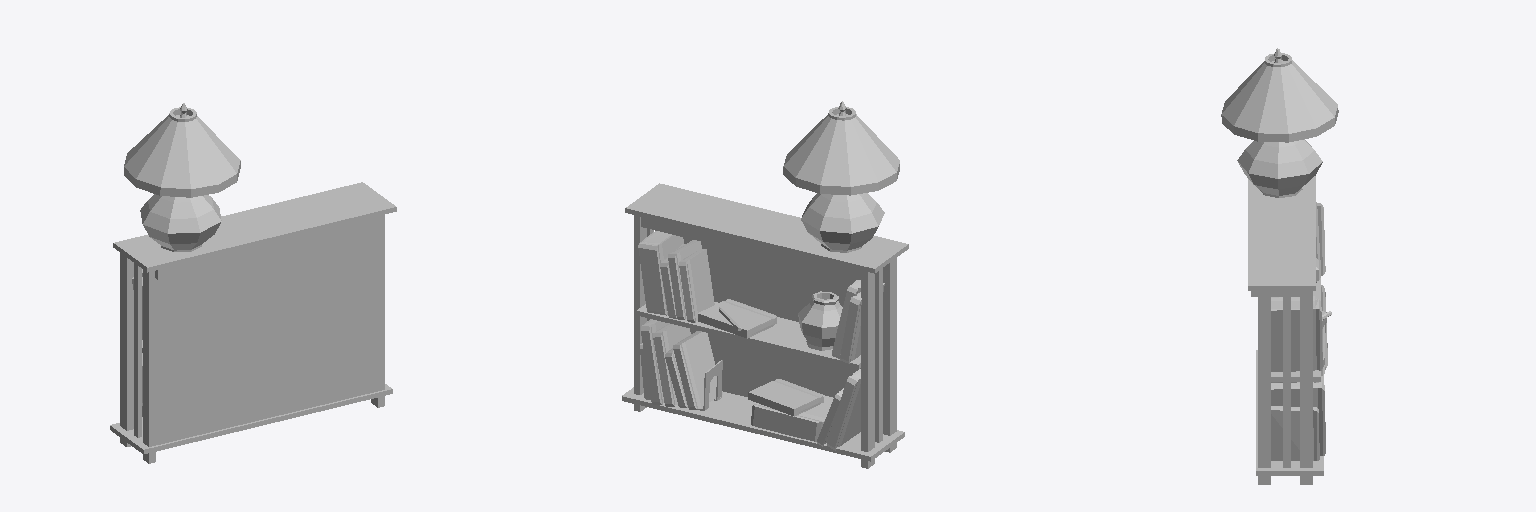
Rendered from littlebookcase.obj.
3 renders of one model, left to right at view 1: azimuth 30°, elevation 25°; view 2: azimuth 150°, elevation 25°; view 3: azimuth 270°, elevation 25°, orthographic.
Parts seen in each view (by area): view 1: group[number redacted]; view 2: group[number redacted]; view 3: group[number redacted].
Part boxes in pixels (left/top/right/bottom): group[number redacted]: left=110, top=103, right=396, bottom=463; group[number redacted]: left=622, top=101, right=908, bottom=468; group[number redacted]: left=1221, top=48, right=1338, bottom=484.
Bounding box in the file's own units: 1.1 × 1.44 × 0.4475.